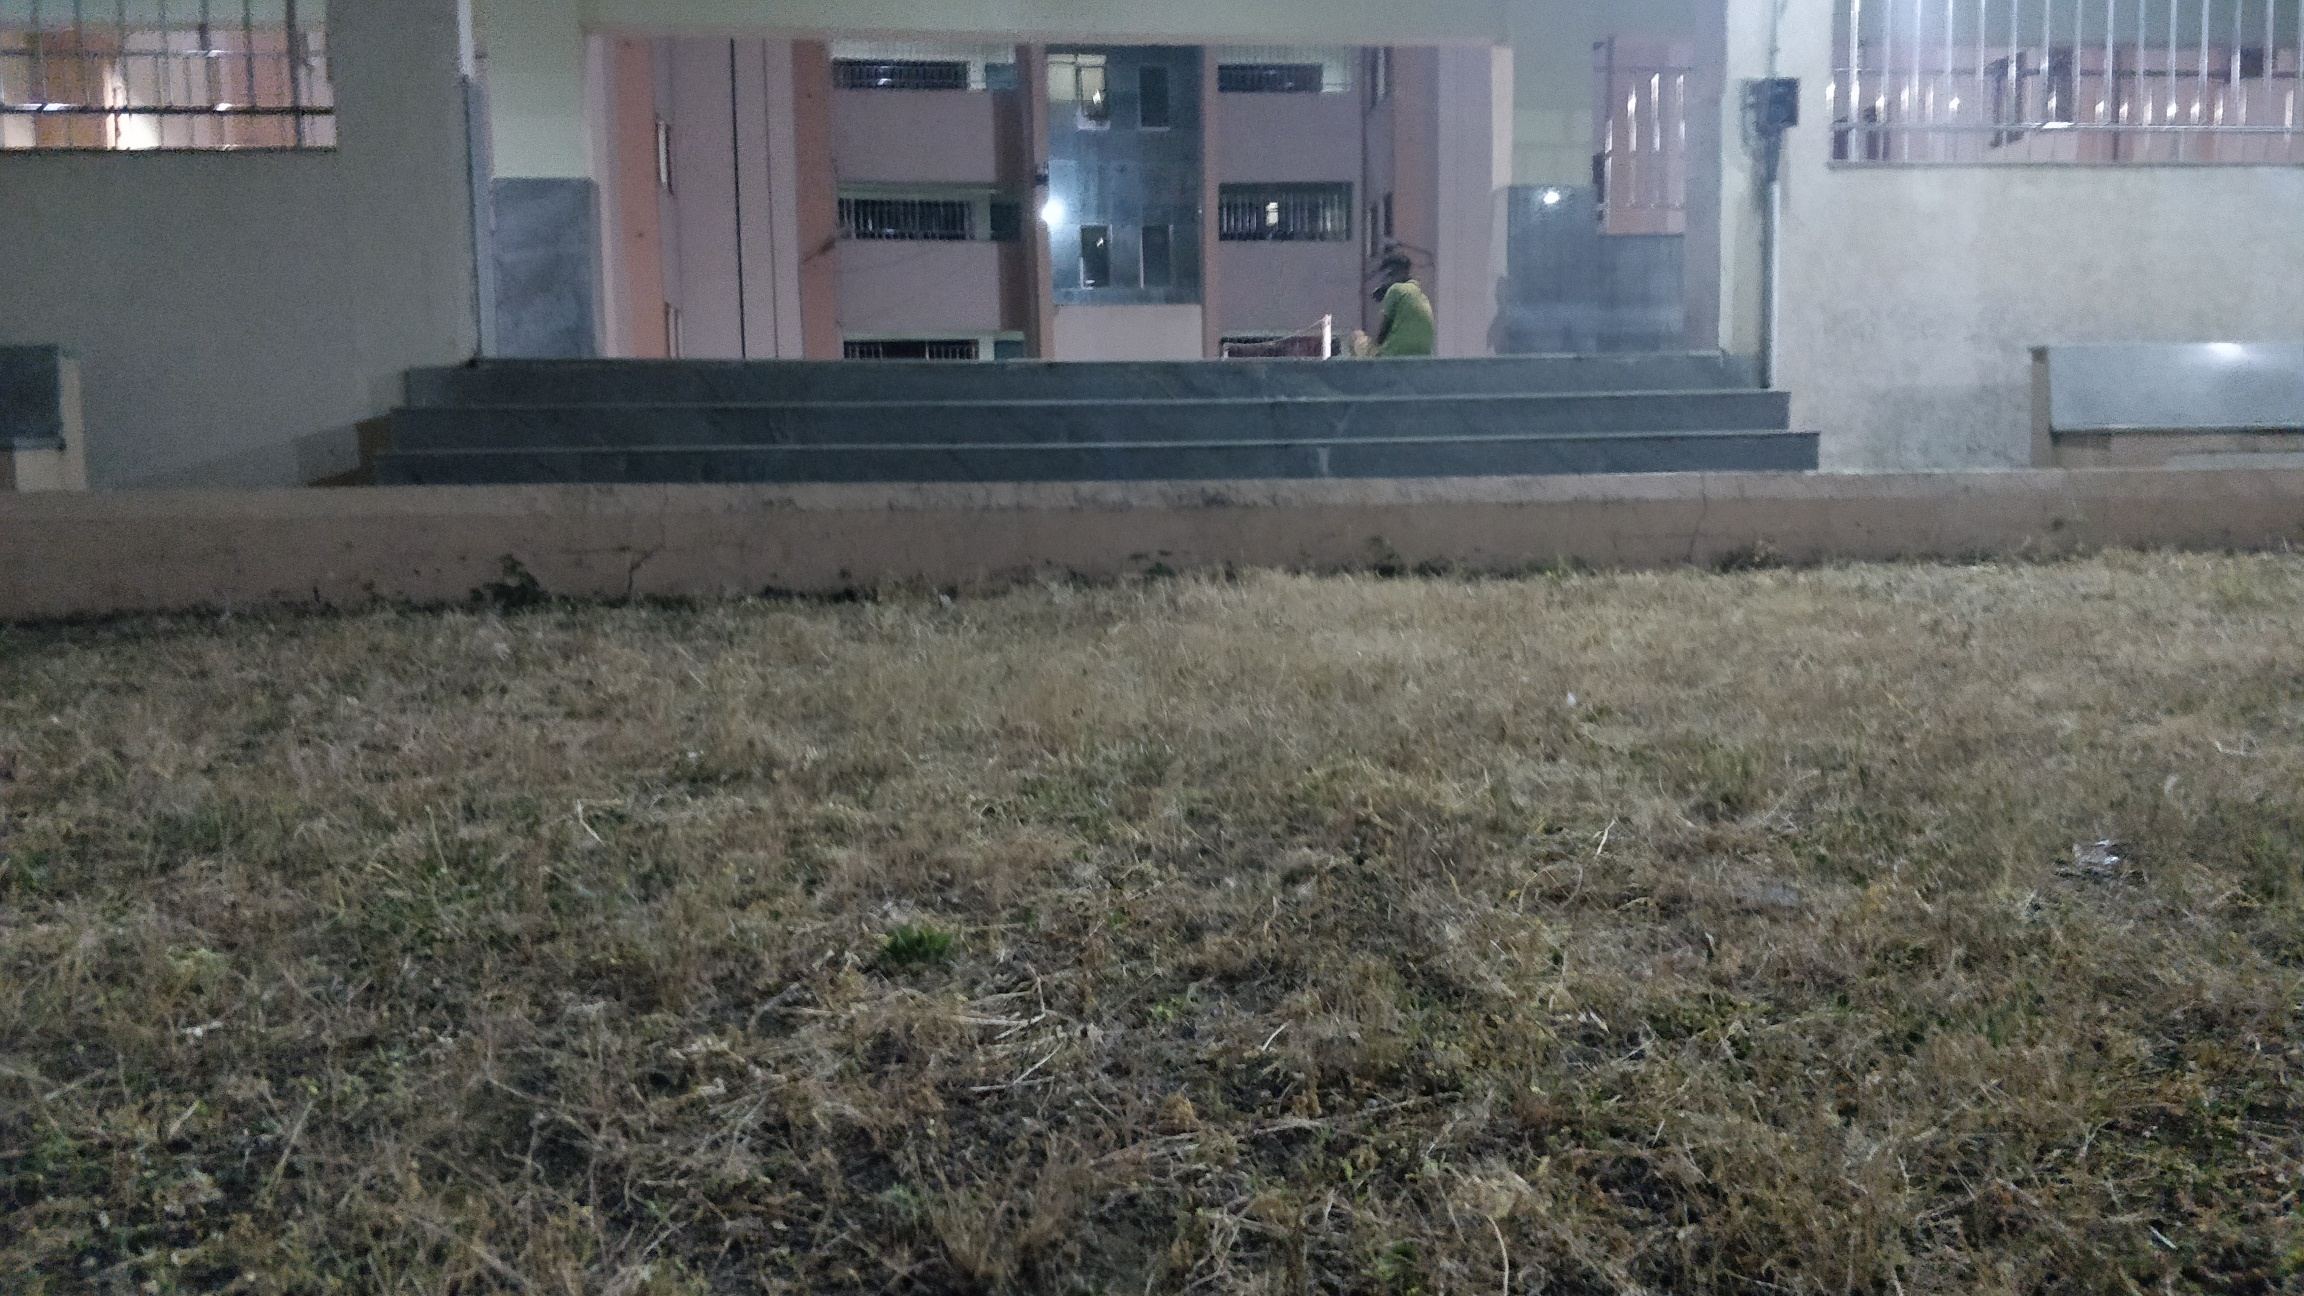stairs_up: (339, 359, 1820, 476)
